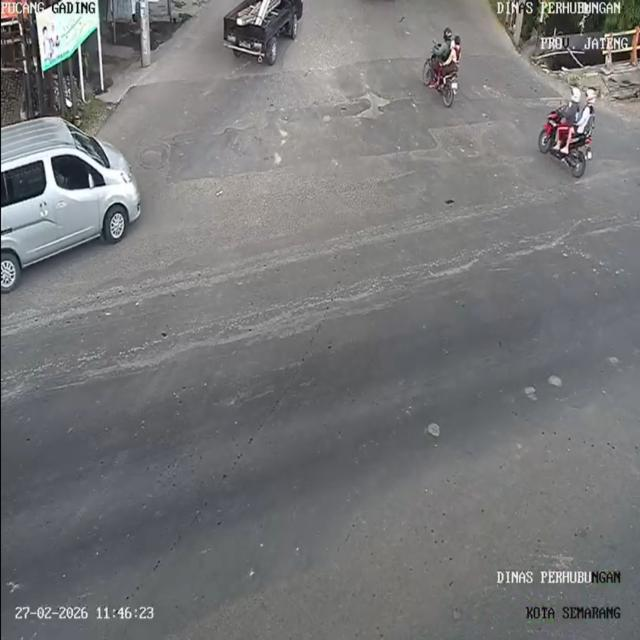motorcycle: (539, 109, 596, 173), (421, 53, 462, 108)
person: (560, 84, 580, 131), (580, 86, 598, 138), (451, 34, 464, 76), (436, 29, 452, 60)
rider_region: (538, 83, 597, 179), (418, 27, 462, 108)
